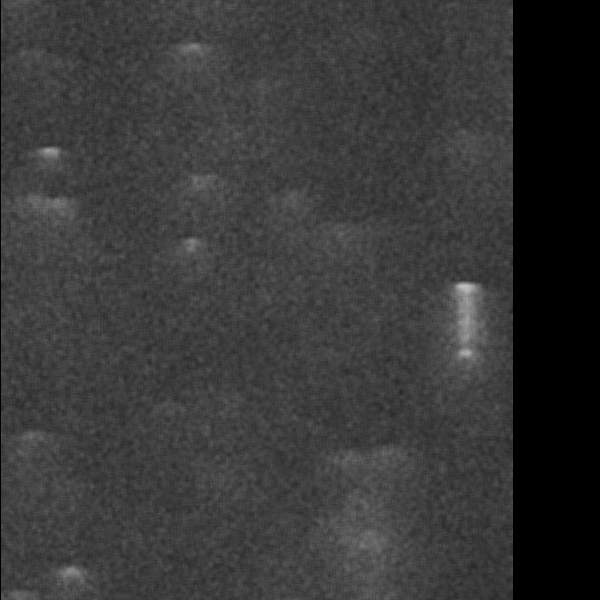spark: (450, 6, 506, 45), (197, 237, 232, 280), (475, 265, 499, 314)
